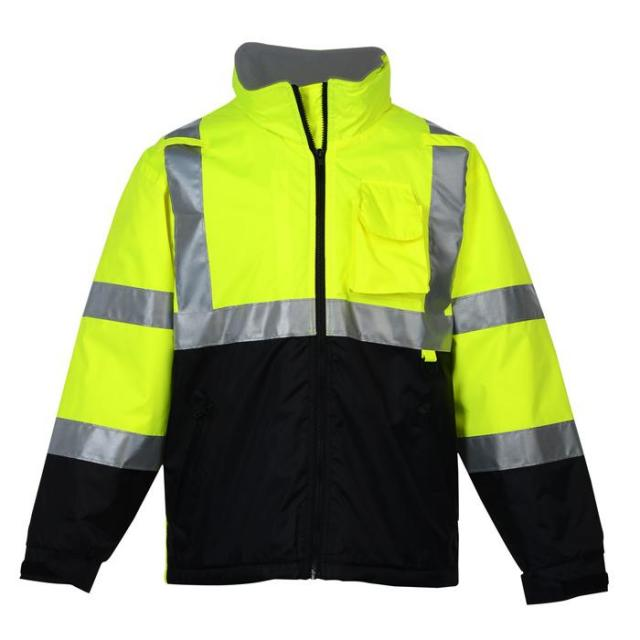Reflective-Jacket: (36, 57, 618, 605)
